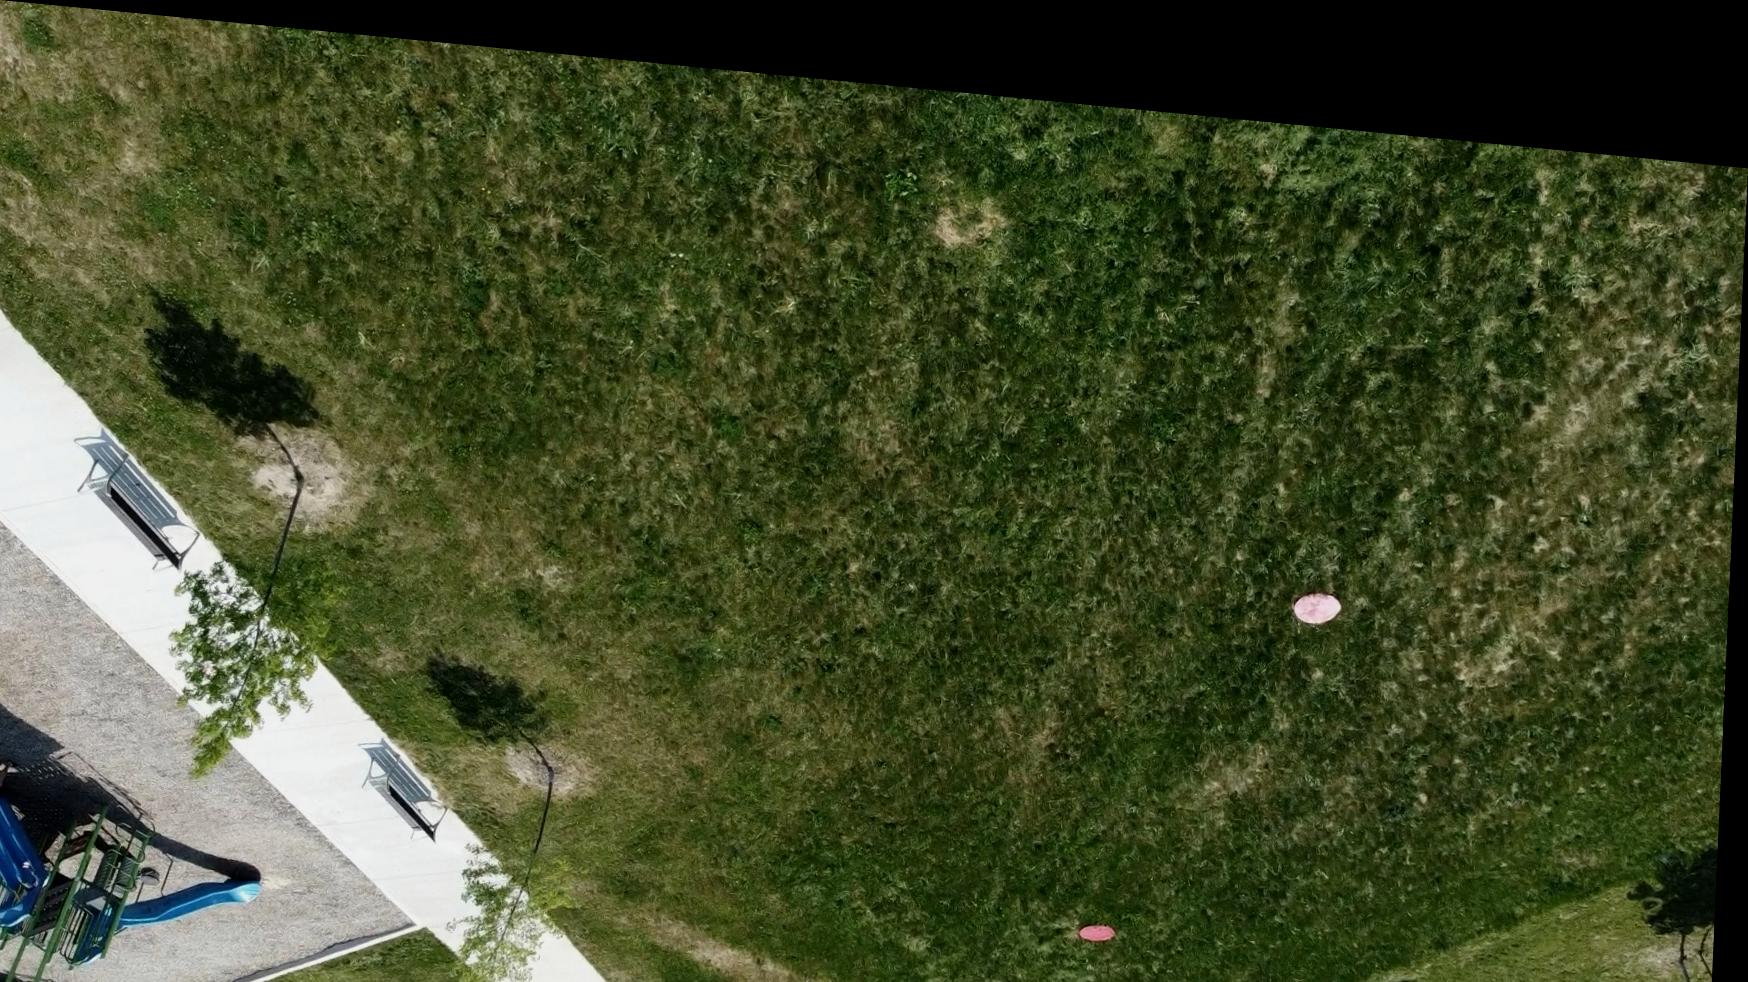Red: (1293, 561, 1349, 605), (1084, 897, 1126, 923)
